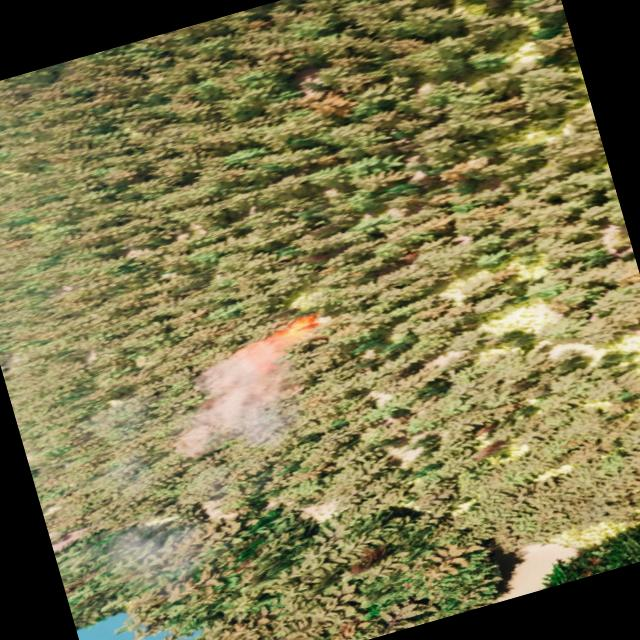fire: (278, 306, 330, 344)
smoke: (138, 328, 322, 478)
